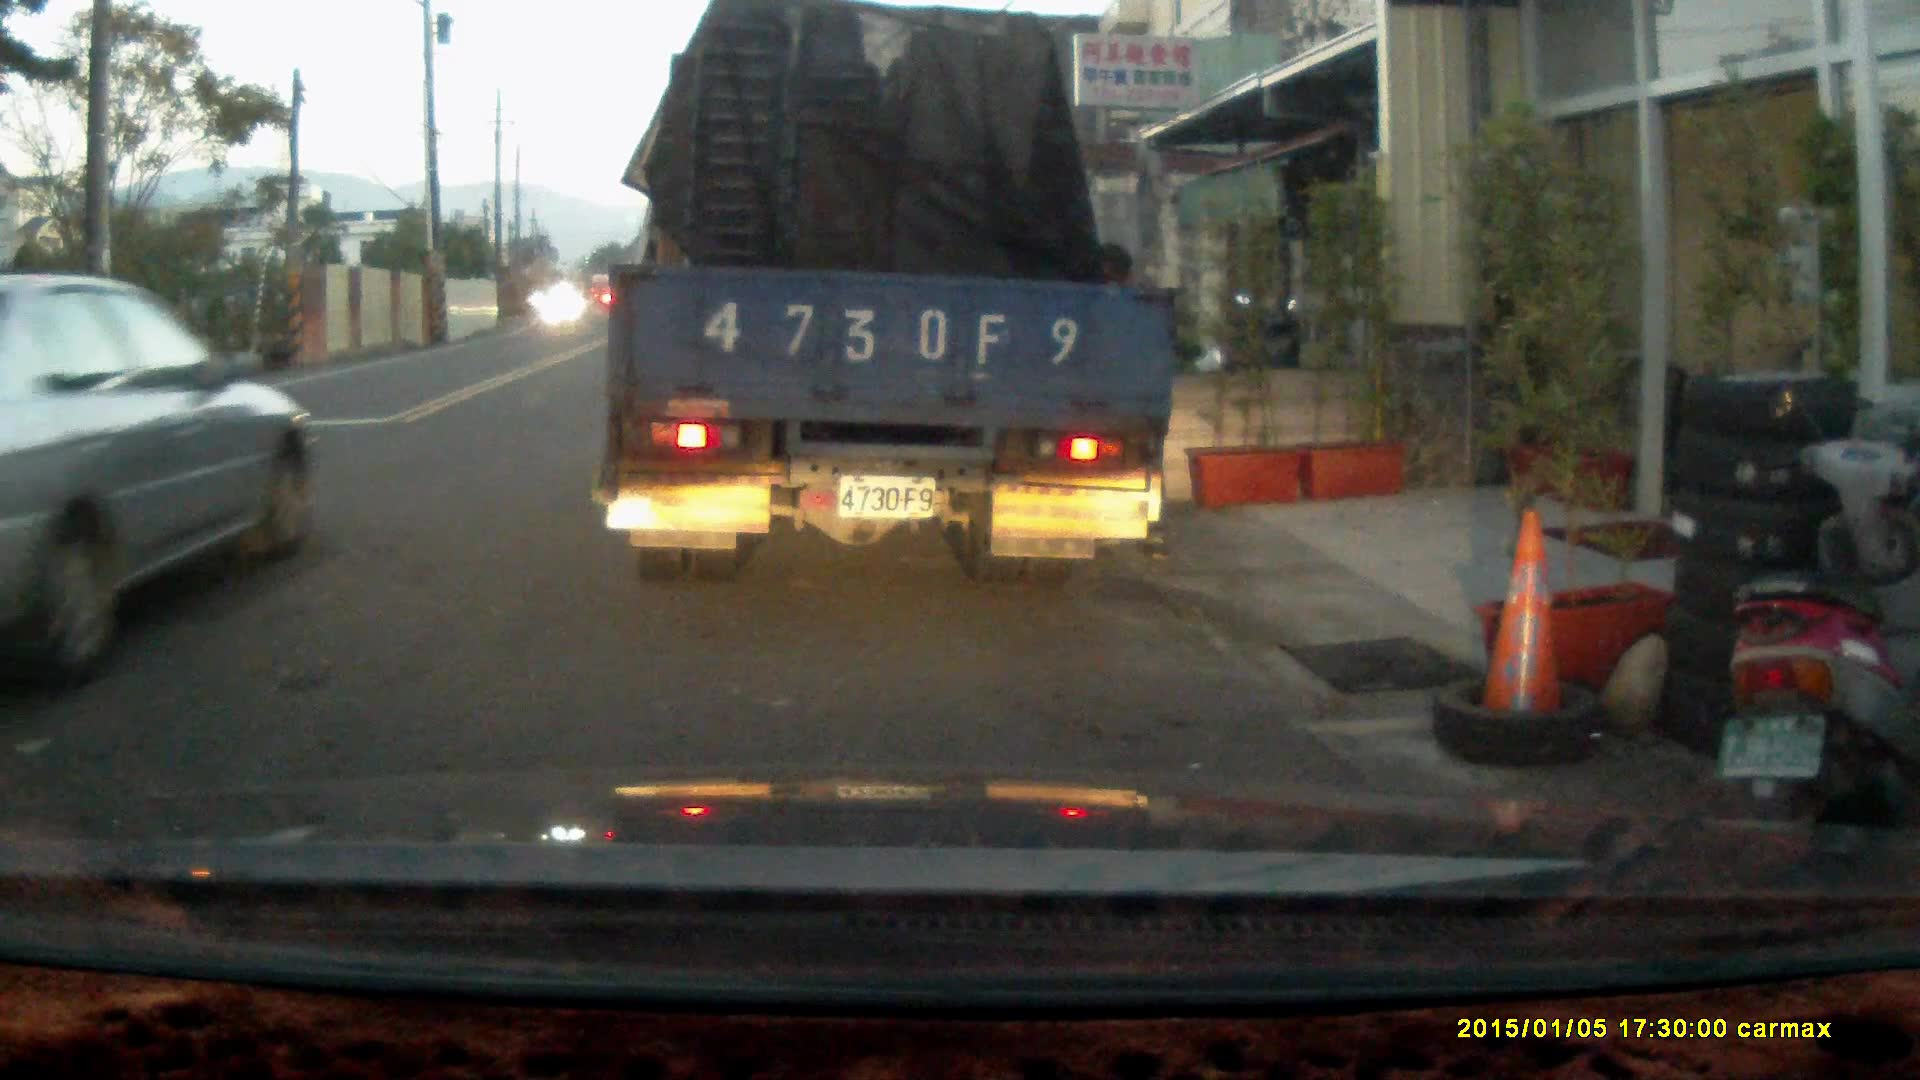vehicle: (605, 22, 1188, 572), (1, 266, 324, 705)
